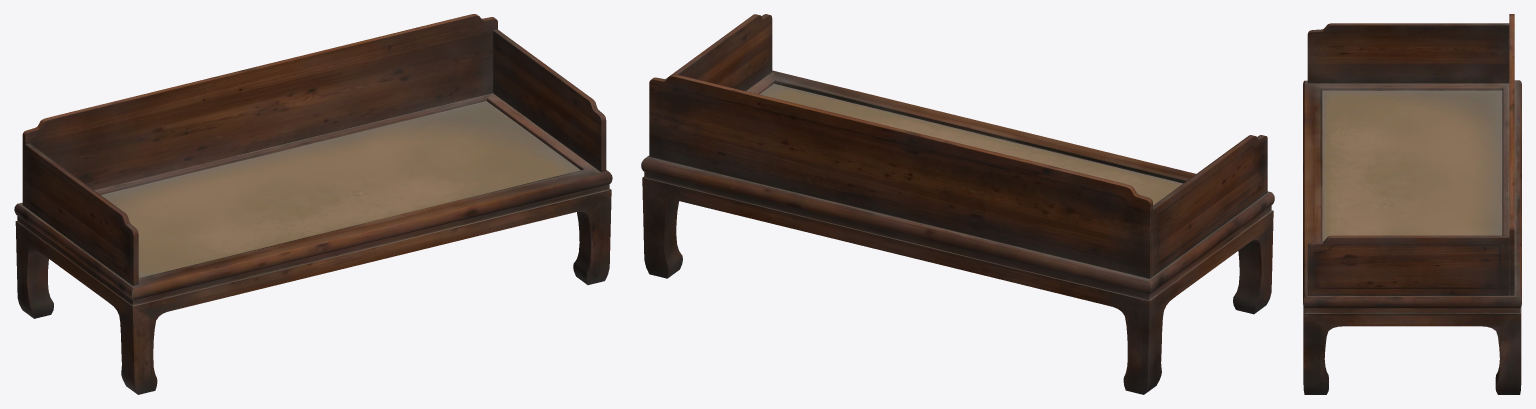
File: d4e83285-807e-4bcf-8d84-3dd83cb44da5.glb
The picture shows the model from 3 angles, left to right: view 1: azimuth 30°, elevation 25°; view 2: azimuth 150°, elevation 25°; view 3: azimuth 270°, elevation 25°; orthographic projection. The views are drawn at different scales.
Parts seen in each view (by area): view 1: chinese_sofa; view 2: chinese_sofa; view 3: chinese_sofa.
Boxes of the visible parts, box(x1,y1,x2,y2) form: chinese_sofa: box(14, 14, 612, 394); chinese_sofa: box(641, 14, 1274, 394); chinese_sofa: box(1303, 14, 1521, 394).
Size of the model in its own units: 2.29 by 0.86 by 0.9688.
1 material, 1 textured.
